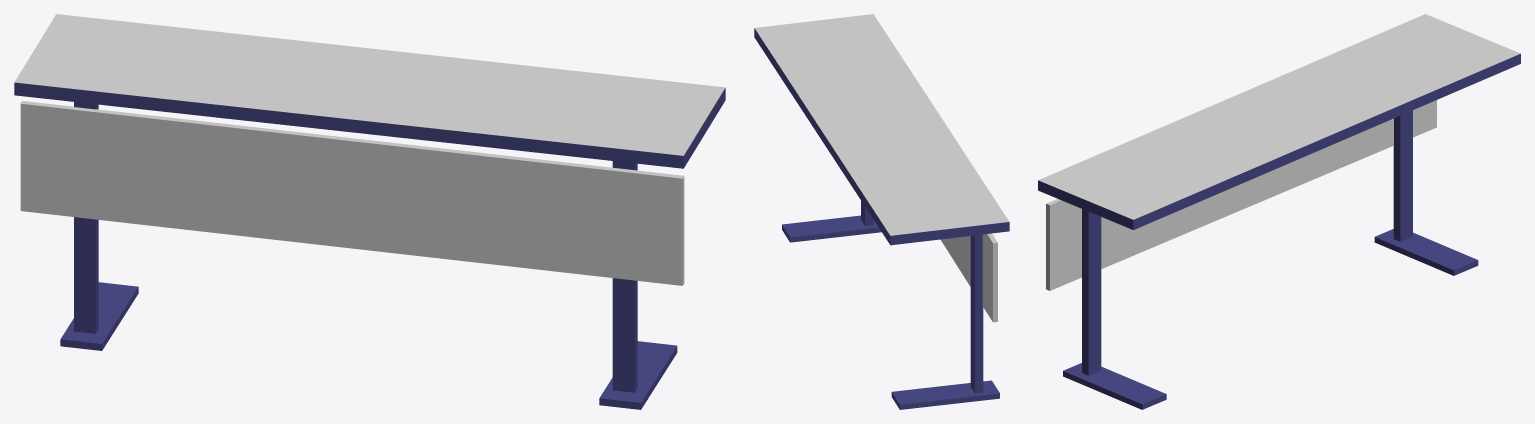
The model's file is A222PetitBancDevant.fbx.
The picture shows the model from 3 angles, left to right: view 1: azimuth 30°, elevation 25°; view 2: azimuth 150°, elevation 25°; view 3: azimuth 270°, elevation 25°; orthographic projection. The views are drawn at different scales.
Parts seen in each view (by area): view 1: polySurface22; view 2: polySurface22; view 3: polySurface22.
Part boxes in pixels (<box>): polySurface22: <box>14,14,725,409</box>; polySurface22: <box>754,14,1009,409</box>; polySurface22: <box>1038,14,1520,409</box>.
Size of the model in its own units: 12.92 by 6.05 by 12.8.
